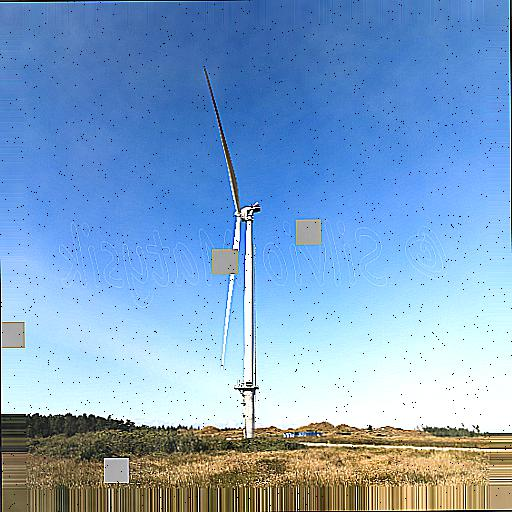wind turbine: (203, 62, 264, 444)
